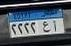2: (24, 22, 30, 35), (30, 22, 36, 34), (11, 23, 17, 35), (18, 23, 23, 34)
ain: (43, 21, 50, 32)
alif: (52, 20, 58, 33)
